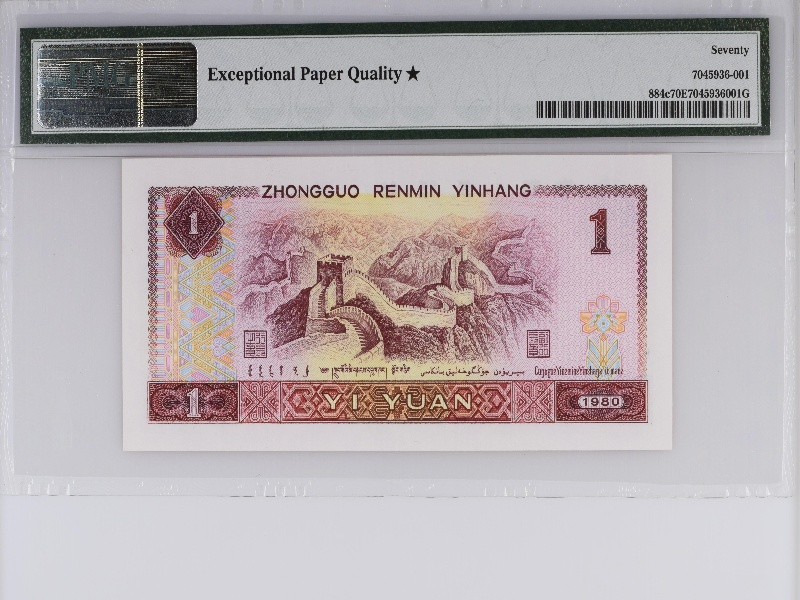papernote: (120, 154, 675, 452)
